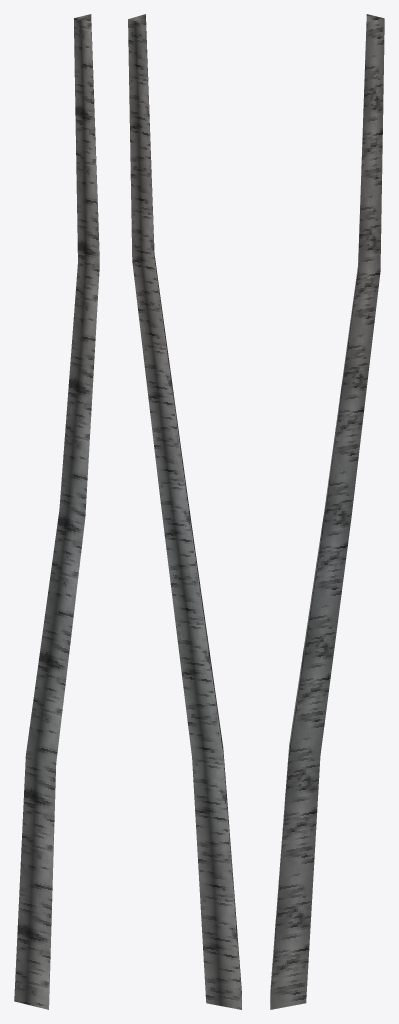
File: birch_bark_l2.gltf
The picture shows the model from 3 angles, left to right: view 1: azimuth 30°, elevation 25°; view 2: azimuth 150°, elevation 25°; view 3: azimuth 330°, elevation 25°; orthographic projection. The views are drawn at different scales.
Visible parts, largest first — view 1: birch_bark_l2; view 2: birch_bark_l2; view 3: birch_bark_l2.
Part boxes in pixels (box(x1,y1,x2,y2)): birch_bark_l2: box(14, 14, 99, 1009); birch_bark_l2: box(128, 14, 241, 1009); birch_bark_l2: box(270, 14, 384, 1009).
Size of the model in its own units: 0.9465 by 8.99 by 0.5852.
1 material, 1 textured.
